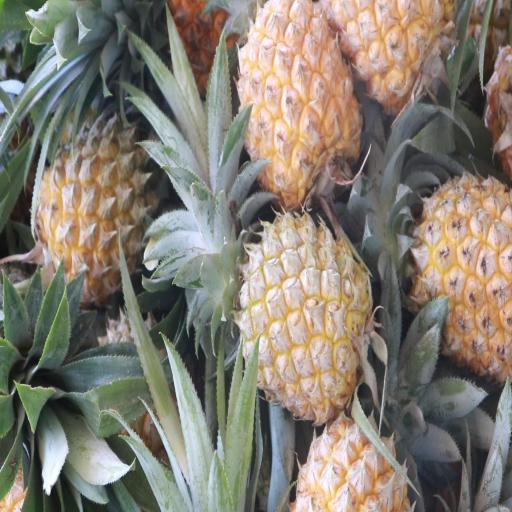------------------------------: (34, 129, 159, 308)
Pineapple - v8 v1: (240, 211, 371, 425), (233, 0, 361, 202), (411, 170, 512, 374), (297, 413, 434, 512)
